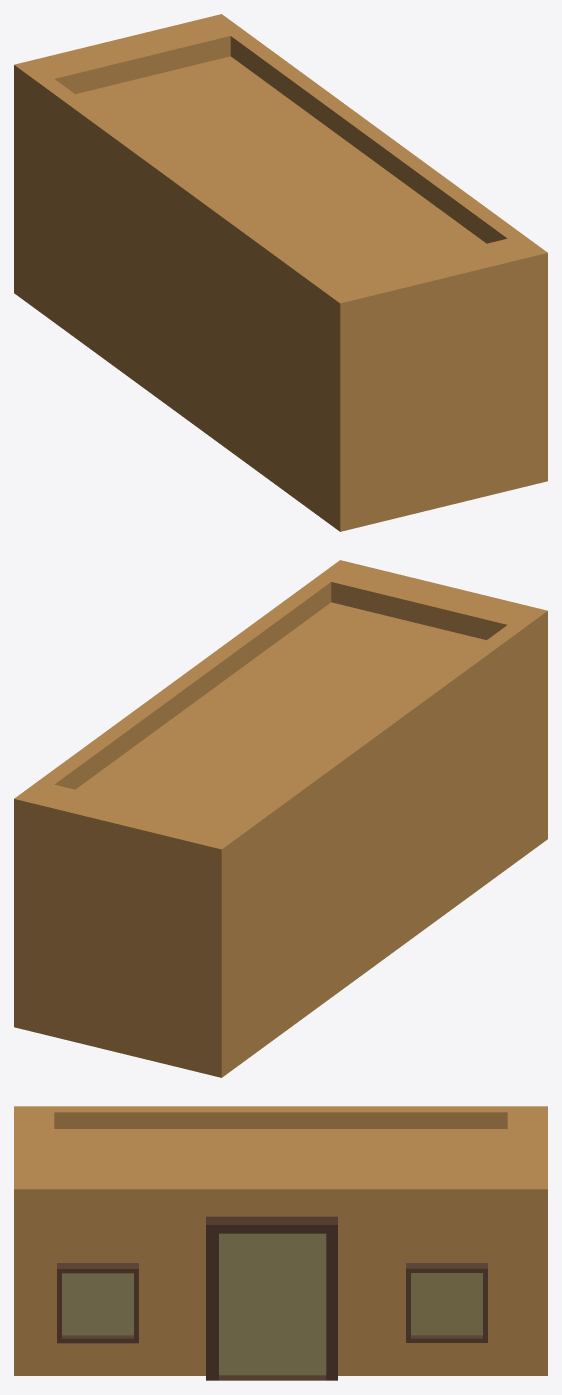
File: LargeHouse.fbx
The picture shows the model from 3 angles, top to bottom: view 1: azimuth 30°, elevation 25°; view 2: azimuth 150°, elevation 25°; view 3: azimuth 270°, elevation 25°; orthographic projection. The views are drawn at different scales.
Parts seen in each view (by area): view 1: House Long.002; view 2: House Long.002; view 3: House Long.002, Door, Window Square, Window Square.007.
Boxes of the visible parts, x1=… form: House Long.002: x1=14, y1=14, x2=547, y2=531; House Long.002: x1=14, y1=560, x2=547, y2=1077; House Long.002: x1=14, y1=1106, x2=547, y2=1375; Door: x1=206, y1=1216, x2=337, y2=1380; Window Square: x1=57, y1=1263, x2=138, y2=1343; Window Square.007: x1=406, y1=1263, x2=487, y2=1342.
Size of the model in its own units: 646 by 615 by 1593.
